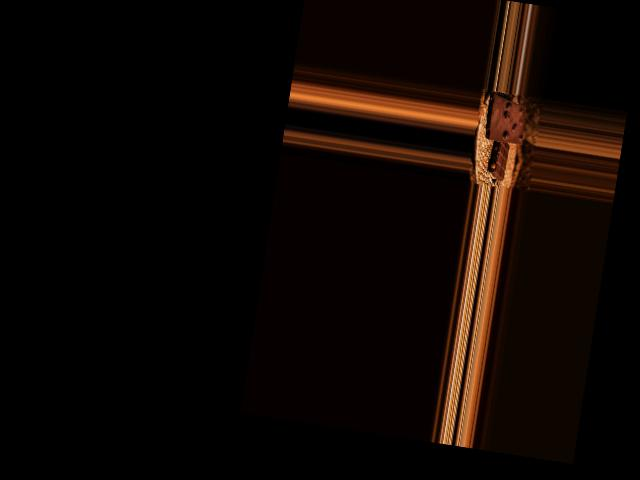chocolate: (483, 93, 530, 148)
